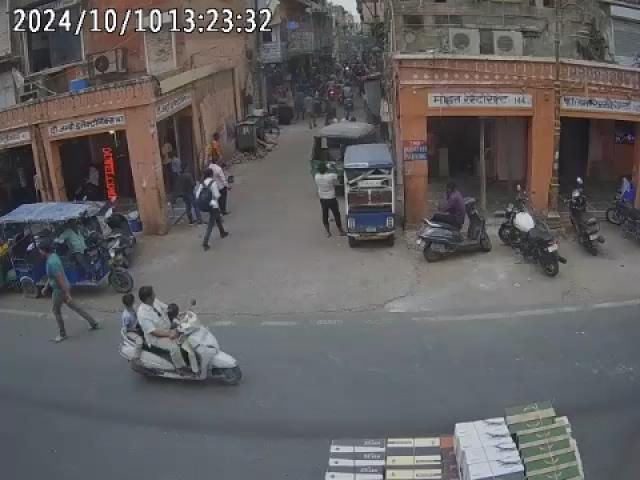auto: (0, 202, 120, 297), (342, 142, 399, 248)
motorbike: (503, 200, 565, 276), (610, 194, 640, 246)
no_helmet: (138, 285, 156, 305), (122, 291, 140, 309)
person: (43, 241, 77, 339), (194, 170, 232, 244), (313, 163, 343, 241), (302, 92, 320, 130)
scooty: (417, 197, 492, 262), (569, 178, 608, 256)
scooty-rider: (116, 284, 242, 386)
